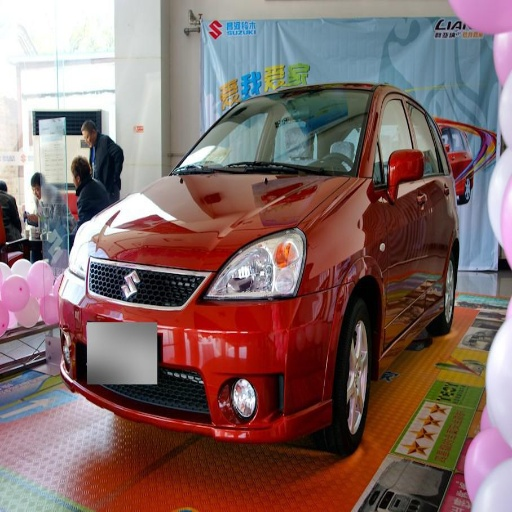front_bumper: (65, 263, 344, 443)
front_glass: (173, 89, 372, 175)
front_left_door: (371, 91, 427, 338)
front_right_light: (70, 235, 138, 300)
